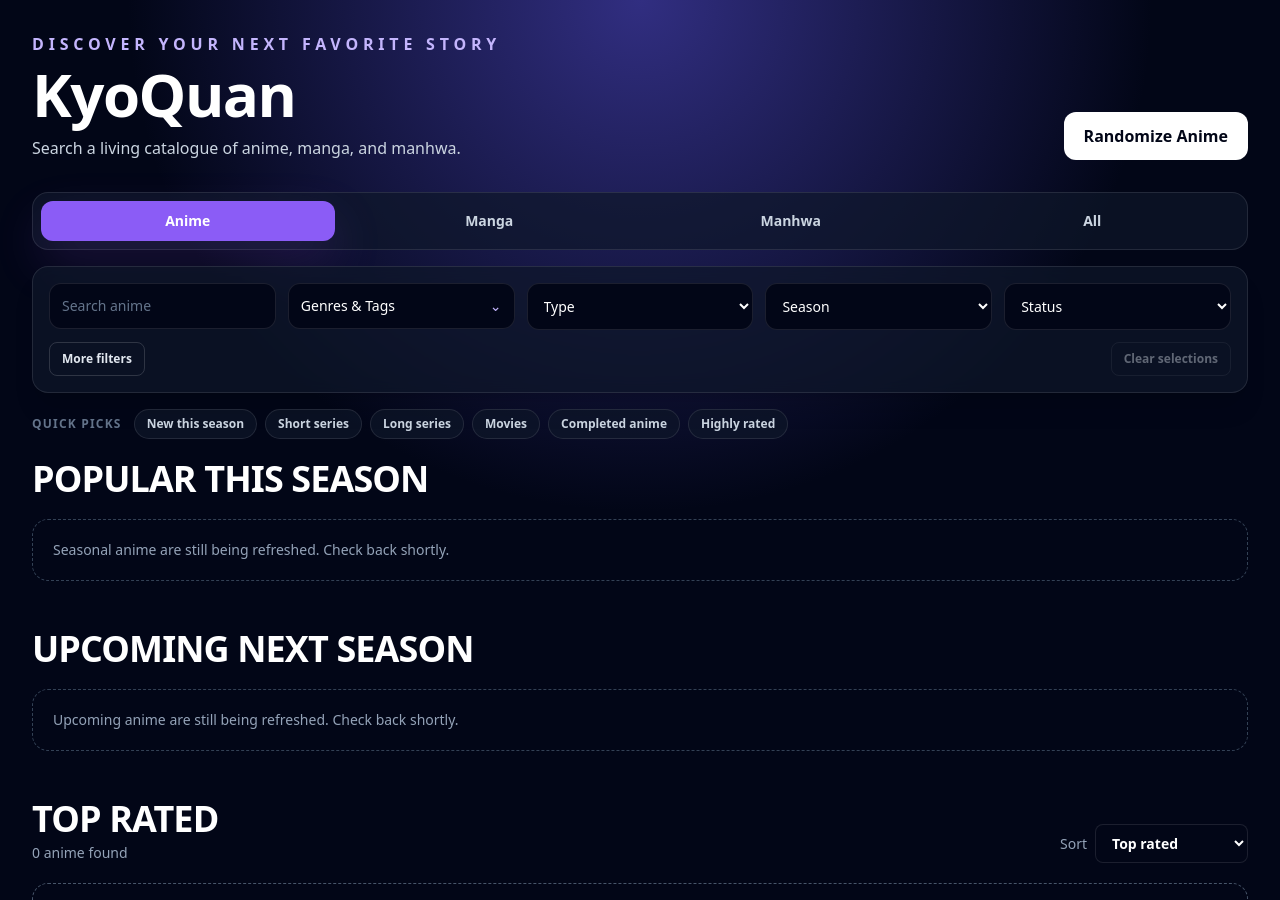
catalogue filter integration › sorting the anime homepage retains the seasonal section and updates its results heading
Expected: the heading "POPULAR THIS SEASON" is shown, [32,454,428,503]
Select "Most popular" in the dropdown named "Sort catalogue" at (1172, 844), box [1095,824,1248,863]
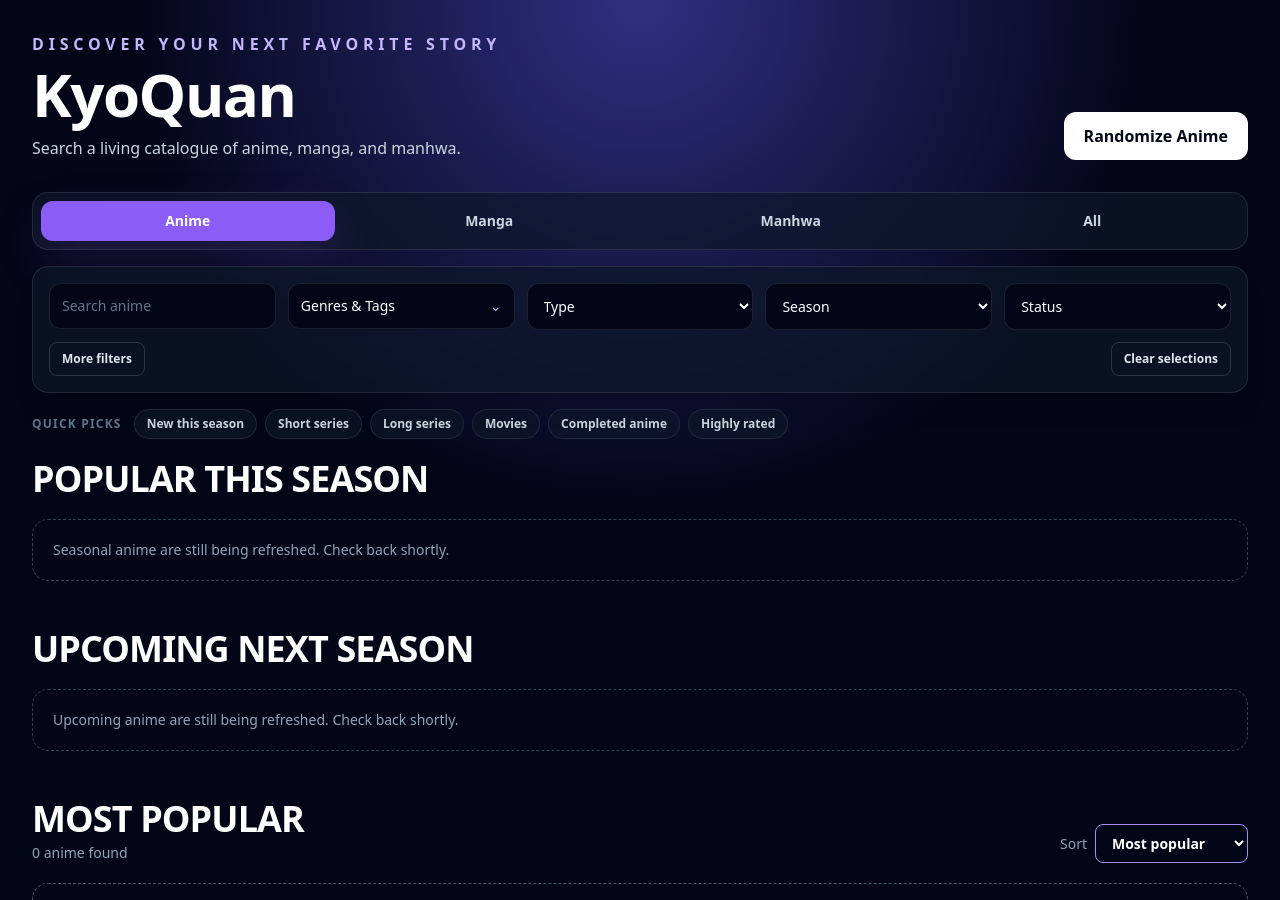
Expected: the heading "POPULAR THIS SEASON" is shown, [32,454,428,503]
Expected: the heading "MOST POPULAR" is shown, [32,799,304,839]
